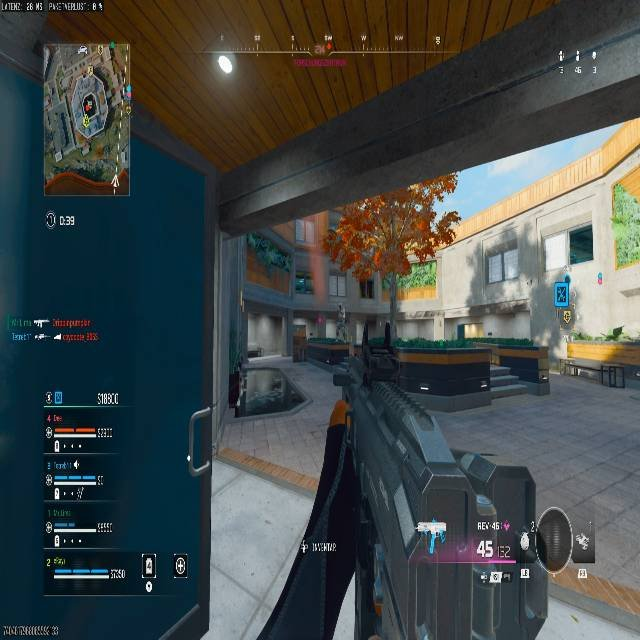player: (335, 318, 347, 340)
